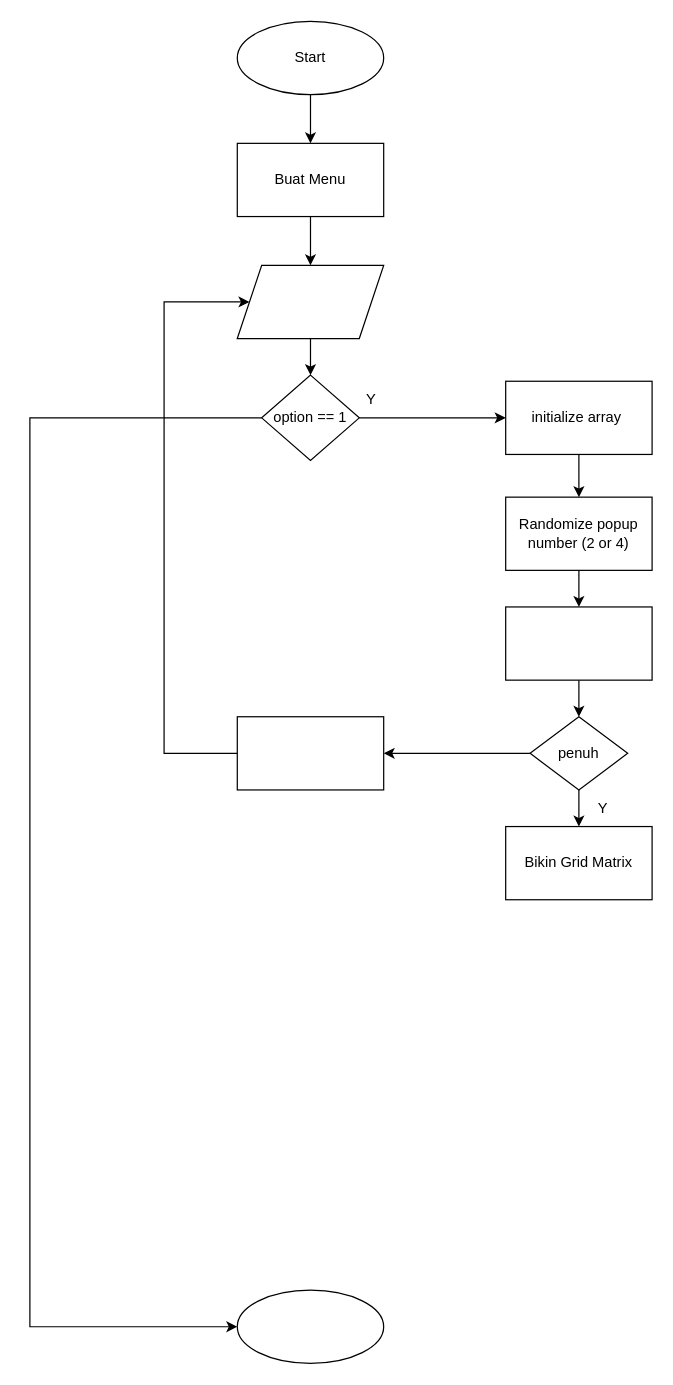
This 673x1385 diagram has some shape labels left out. The centre of each missing label's shape, as x and y in pixels:
"1. Begin 2. Exit" belongs at (x=310, y=301).
"End" belongs at (x=310, y=1326).
"Lose" belongs at (x=310, y=753).
"Search" belongs at (x=578, y=643).
